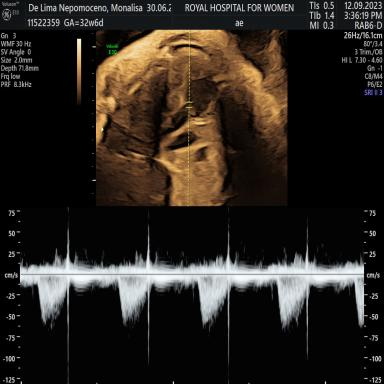Ultrasound-Waves: (28, 209, 361, 384)
